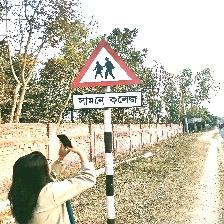College-in-front: (54, 33, 145, 123)
